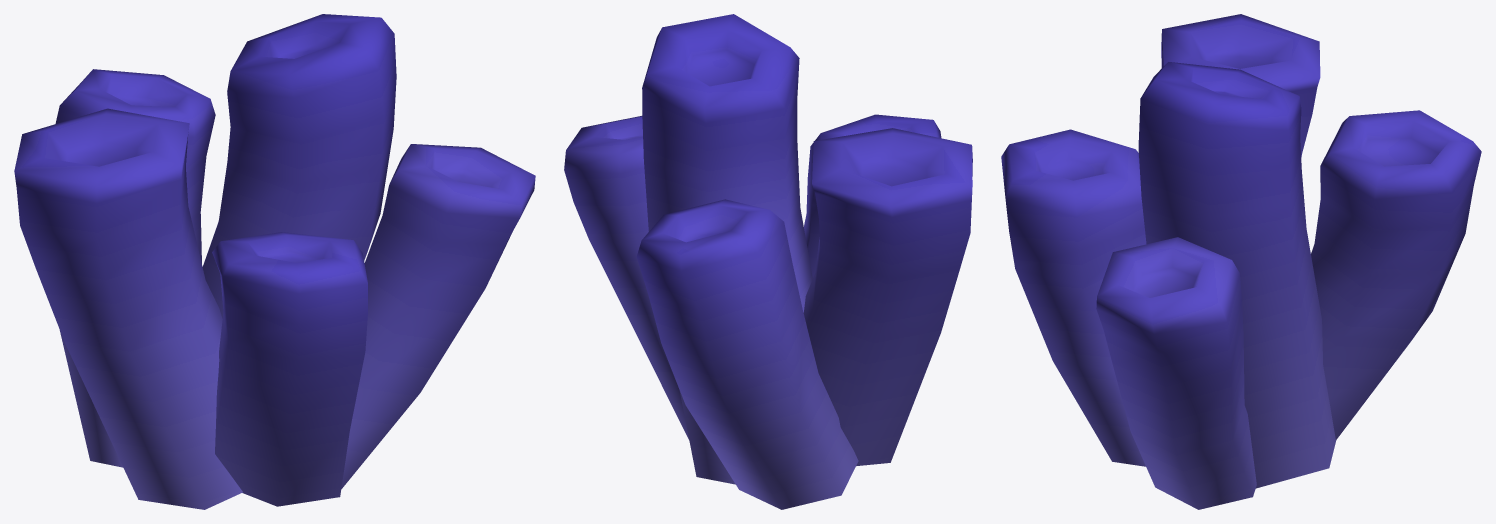
Rendered from CoralD.fbx.
3 renders of one model, left to right at view 1: azimuth 30°, elevation 25°; view 2: azimuth 150°, elevation 25°; view 3: azimuth 270°, elevation 25°, orthographic. The views are drawn at different scales.
Parts seen in each view (by area): view 1: CoralD; view 2: CoralD; view 3: CoralD.
Part boxes in pixels (<box>): CoralD: <box>14,14,535,509</box>; CoralD: <box>564,14,972,509</box>; CoralD: <box>1001,14,1481,509</box>.
Size of the model in its own units: 28.11 by 25.12 by 25.64.
1 material, 1 textured.
